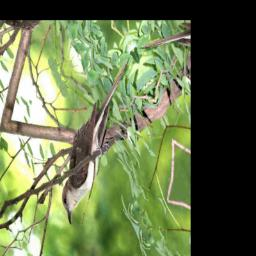Cuckoo: (34, 58, 164, 226)
